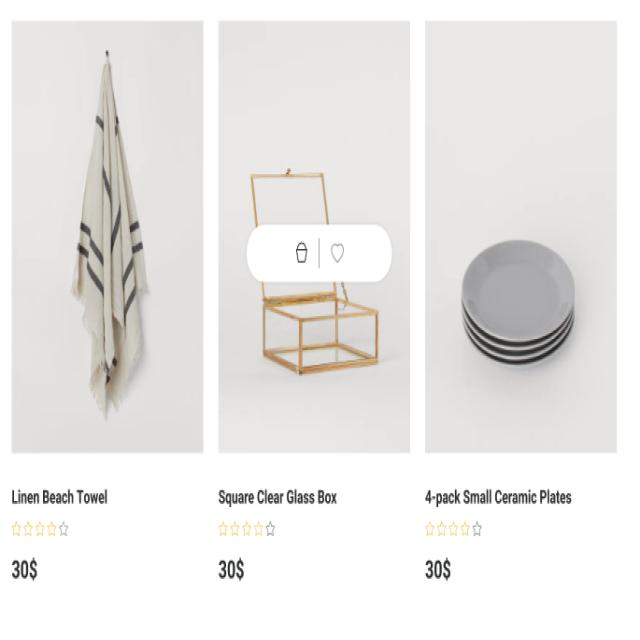ProductTileRow: (8, 16, 619, 593)
